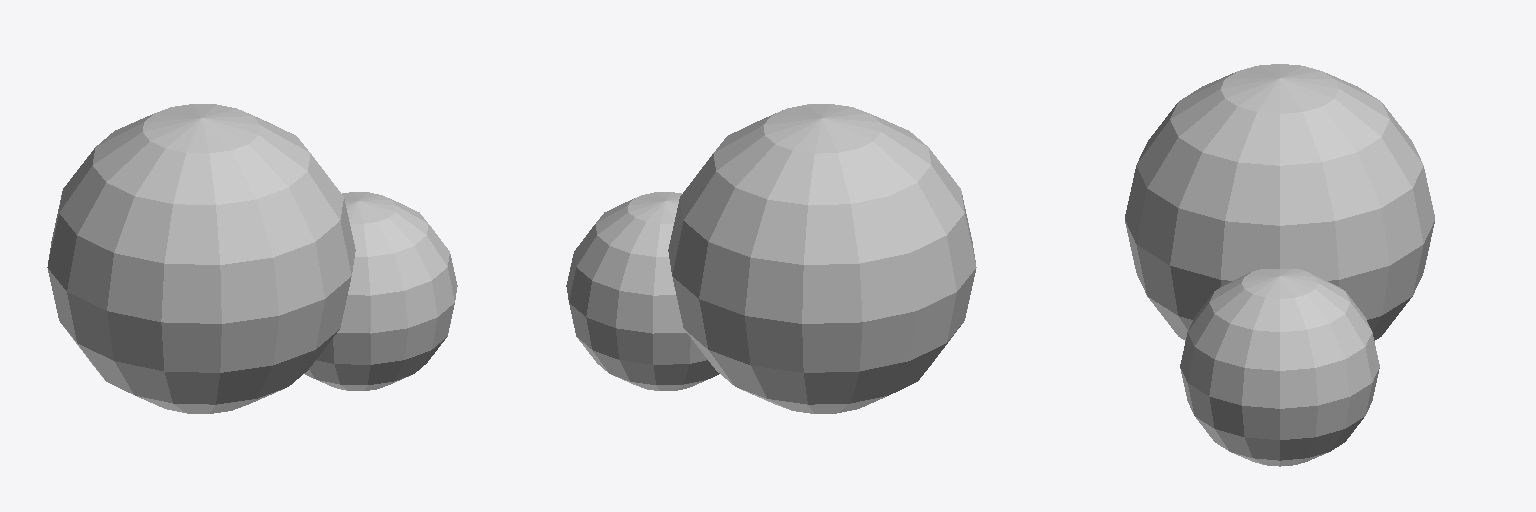
File: msh_cloud_A_01.obj
3 views of the same model, side by side, from view 1: azimuth 30°, elevation 25°; view 2: azimuth 150°, elevation 25°; view 3: azimuth 270°, elevation 25° (orthographic).
Parts seen in each view (by area): view 1: Cloud_01; view 2: Cloud_01; view 3: Cloud_01.
Boxes of the visible parts, <box> form: Cloud_01: <box>47,104,457,413</box>; Cloud_01: <box>566,104,976,413</box>; Cloud_01: <box>1125,64,1434,466</box>.
Bounding box in the file's own units: 1.62 × 1.24 × 1.16.